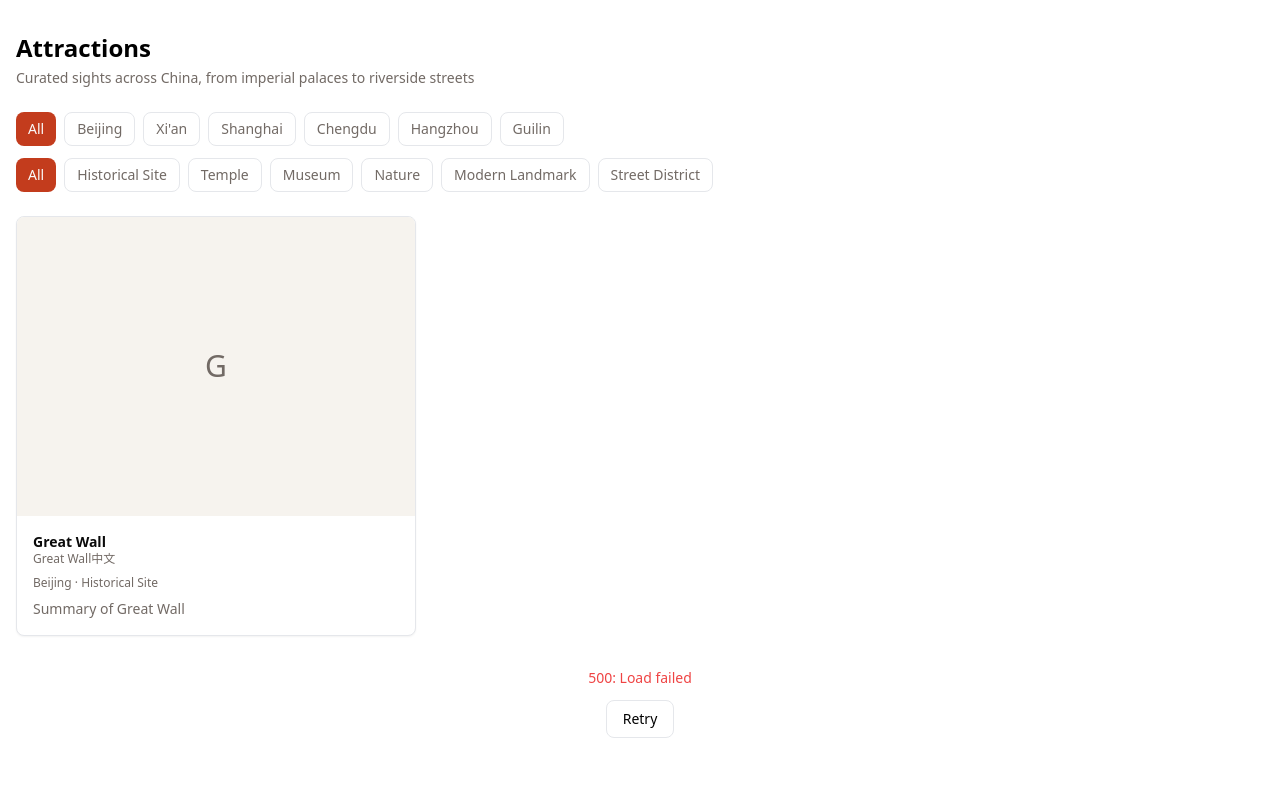
Test: AttractionsPage › offers a retry after an auto-load failure and resumes auto-loading
The width and height of the screenshot is (1280, 800).
Expected: the heading "Great Wall" is shown, [33,532,115,551]
Expected: the text "500: Load failed" is shown, [588,668,692,687]
Click the button "Retry" at (640, 719), box [606,700,674,738]
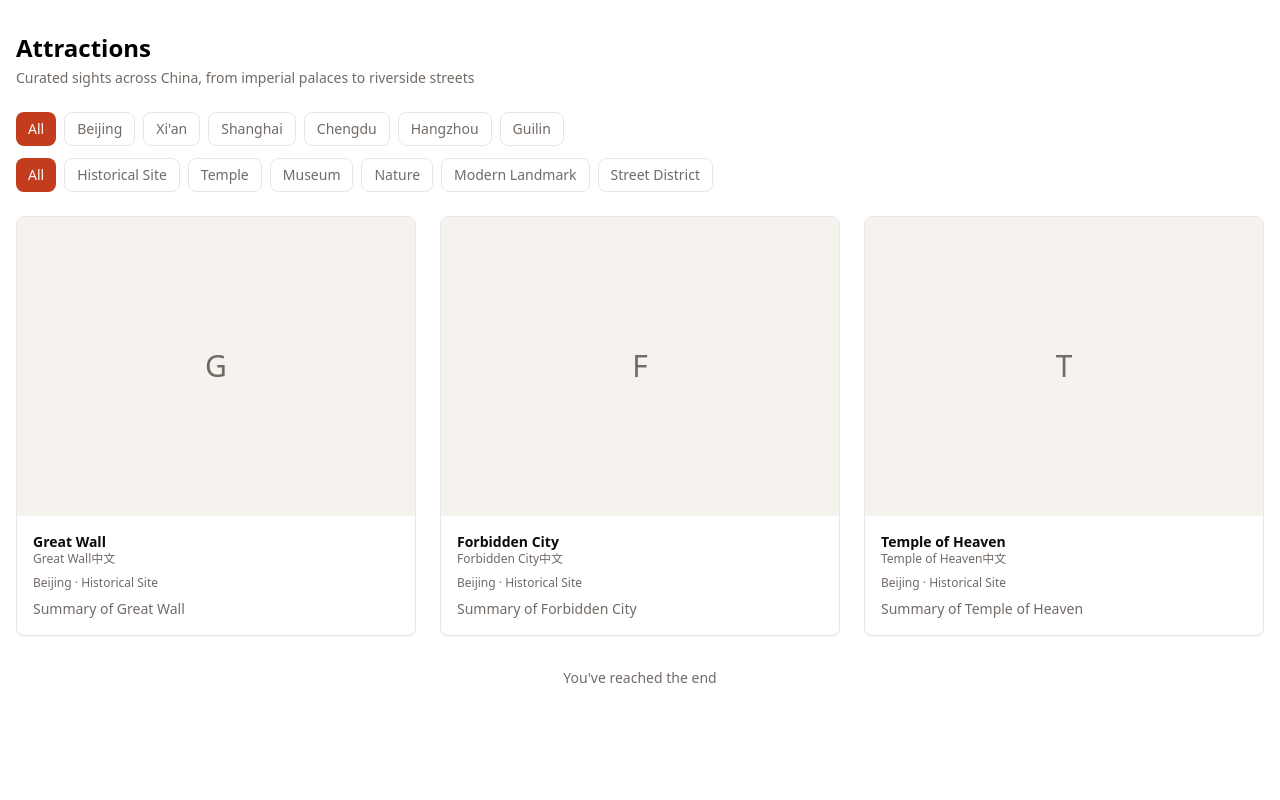
Now the heading "Forbidden City" is shown, box [457,532,563,551]
Now the text "500: Load failed" is gone
Now the heading "Temple of Heaven" is shown, box [881,532,1006,551]
